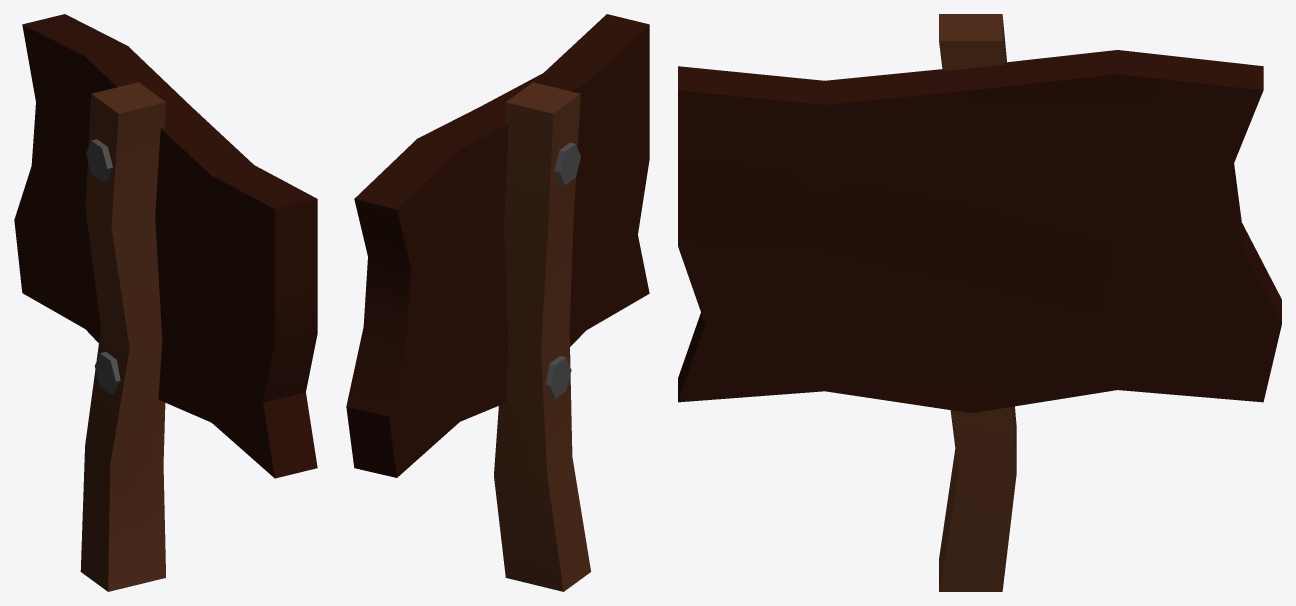
The model's file is sign.fbx.
The picture shows the model from 3 angles, left to right: view 1: azimuth 30°, elevation 25°; view 2: azimuth 150°, elevation 25°; view 3: azimuth 270°, elevation 25°; orthographic projection. The views are drawn at different scales.
Parts seen in each view (by area): view 1: Sign_LOD0; view 2: Sign_LOD0; view 3: Sign_LOD0.
Boxes of the visible parts, x1=… form: Sign_LOD0: x1=14, y1=14, x2=317, y2=591; Sign_LOD0: x1=346, y1=14, x2=649, y2=591; Sign_LOD0: x1=678, y1=14, x2=1281, y2=591.
Size of what is drawn, in the model's own units: 44.62 by 202 by 201.
